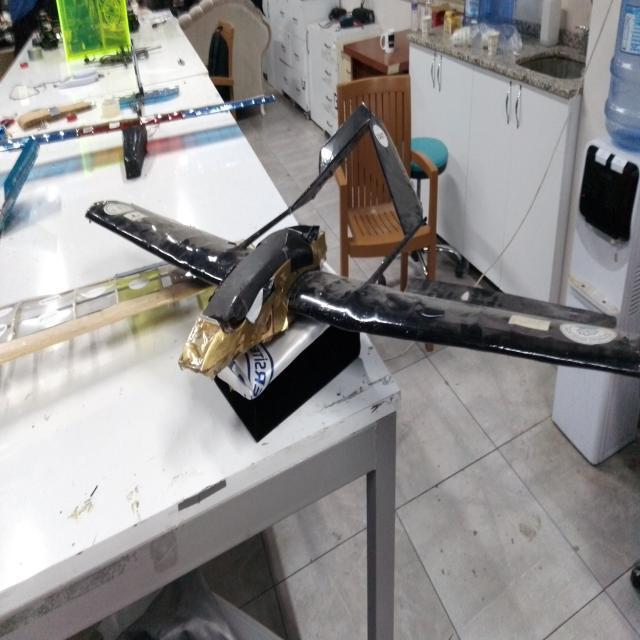UAV: (0, 119, 590, 497)
